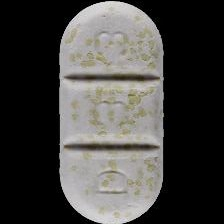0378-3030: (0, 0, 224, 224)
